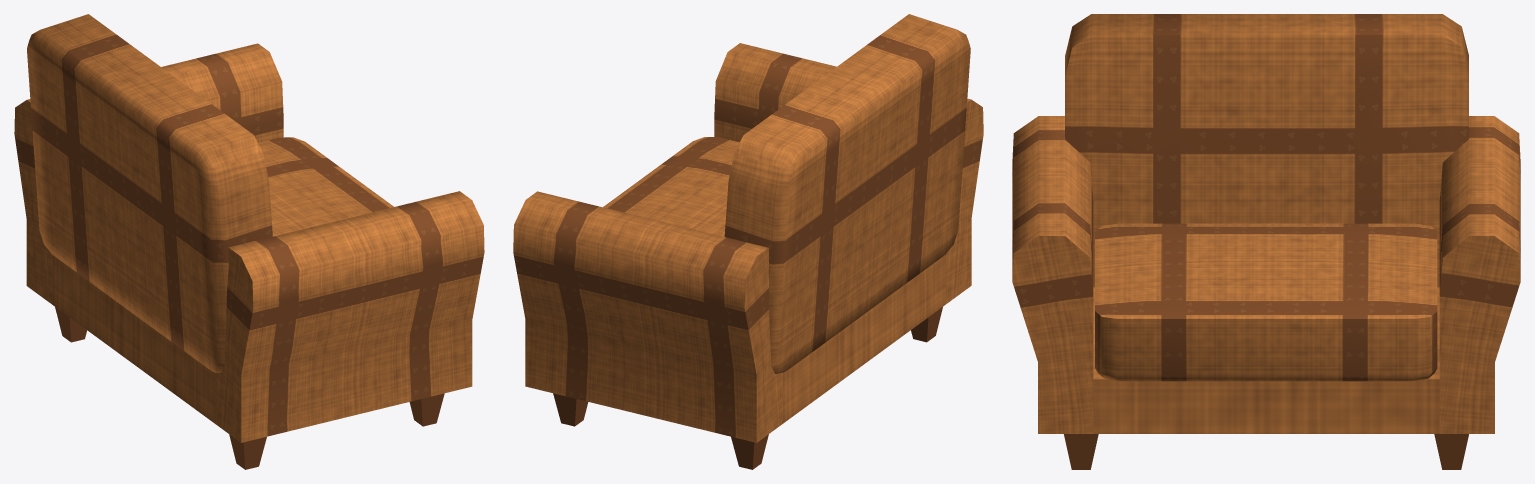
File: Livingroom_Sofa_Small.fbx
The picture shows the model from 3 angles, left to right: view 1: azimuth 30°, elevation 25°; view 2: azimuth 150°, elevation 25°; view 3: azimuth 270°, elevation 25°; orthographic projection. The views are drawn at different scales.
Visible parts, largest first — view 1: Livingroom_Sofa_Small; view 2: Livingroom_Sofa_Small; view 3: Livingroom_Sofa_Small.
Boxes of the visible parts, x1,y1,x2,y2 form: Livingroom_Sofa_Small: (14, 14, 484, 469); Livingroom_Sofa_Small: (513, 14, 983, 469); Livingroom_Sofa_Small: (1012, 14, 1520, 469).
Size of the model in its own units: 87.47 by 105 by 140.
